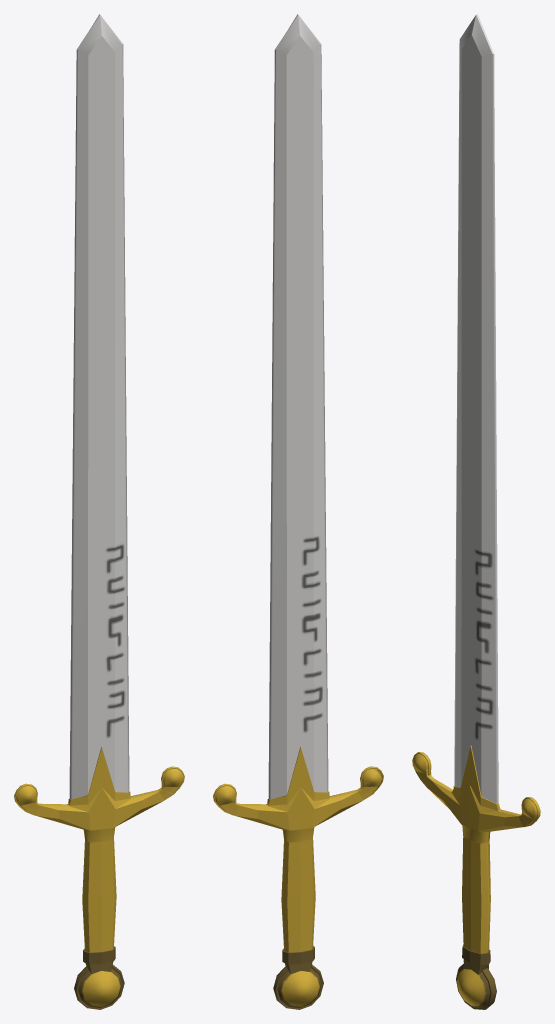
The model's file is Excalibur.glb.
3 views of the same model, side by side, from view 1: azimuth 30°, elevation 25°; view 2: azimuth 210°, elevation 25°; view 3: azimuth 330°, elevation 25° (orthographic).
Visible parts, largest first — view 1: Object_2; view 2: Object_2; view 3: Object_2.
Boxes of the visible parts, box(x1,y1,x2,y2) form: Object_2: box(14, 14, 184, 1009); Object_2: box(213, 14, 383, 1009); Object_2: box(412, 14, 540, 1009).
Bounding box in the file's own units: 0.1566 × 1 × 0.048.
1 material, 1 textured.
